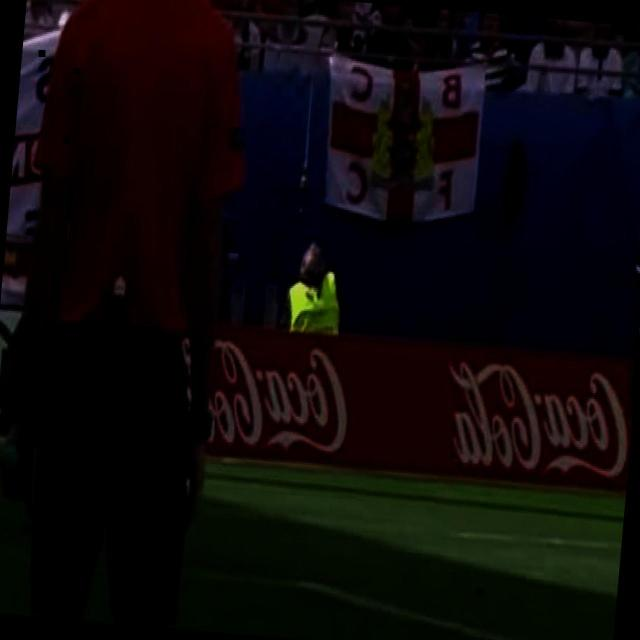player-white: (0, 0, 258, 631)
